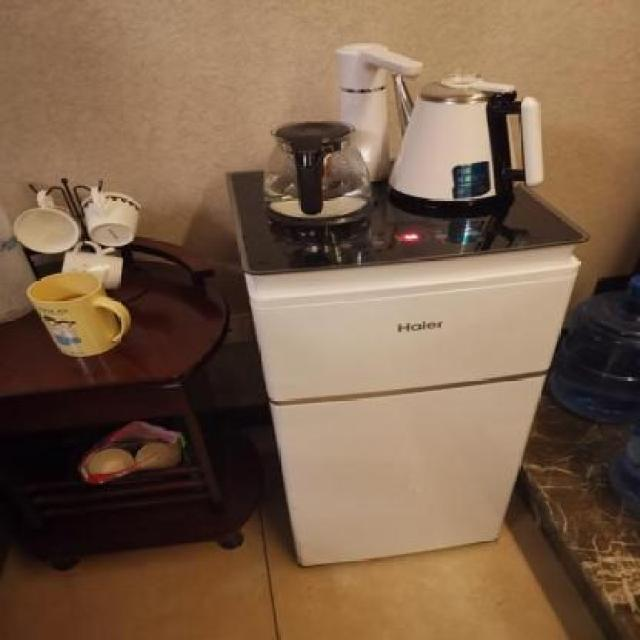cooler: (222, 41, 593, 572)
